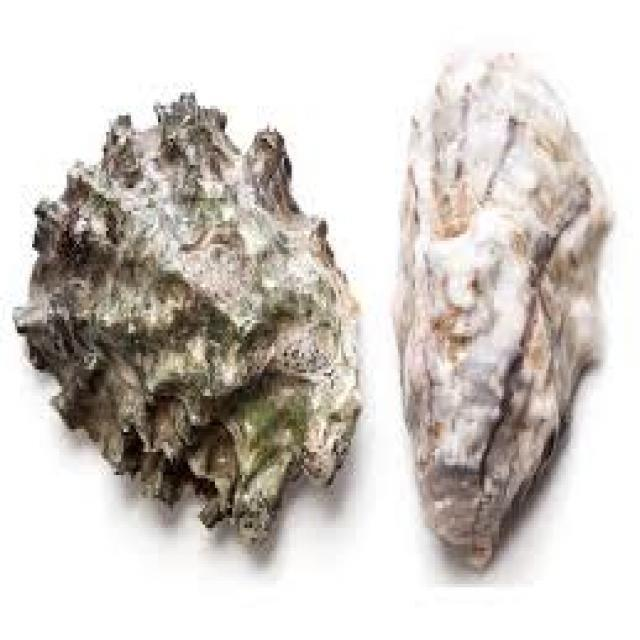Oyster- Indeterminate: (16, 94, 360, 543), (396, 54, 610, 567)
